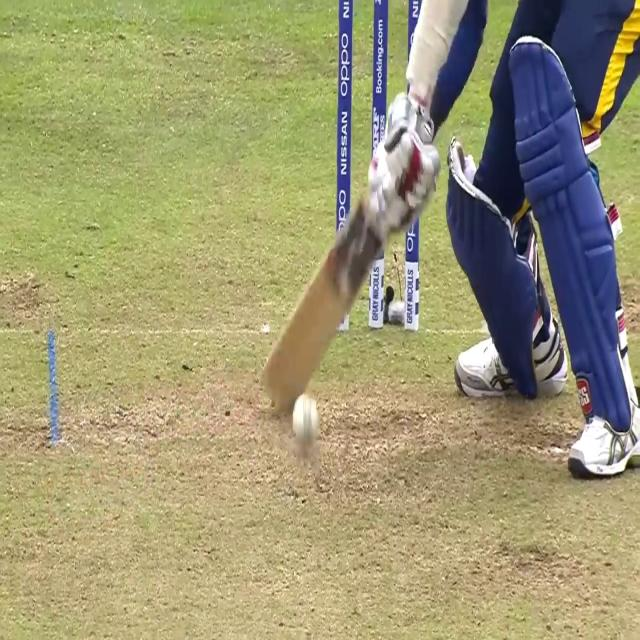ball: (289, 388, 320, 451)
